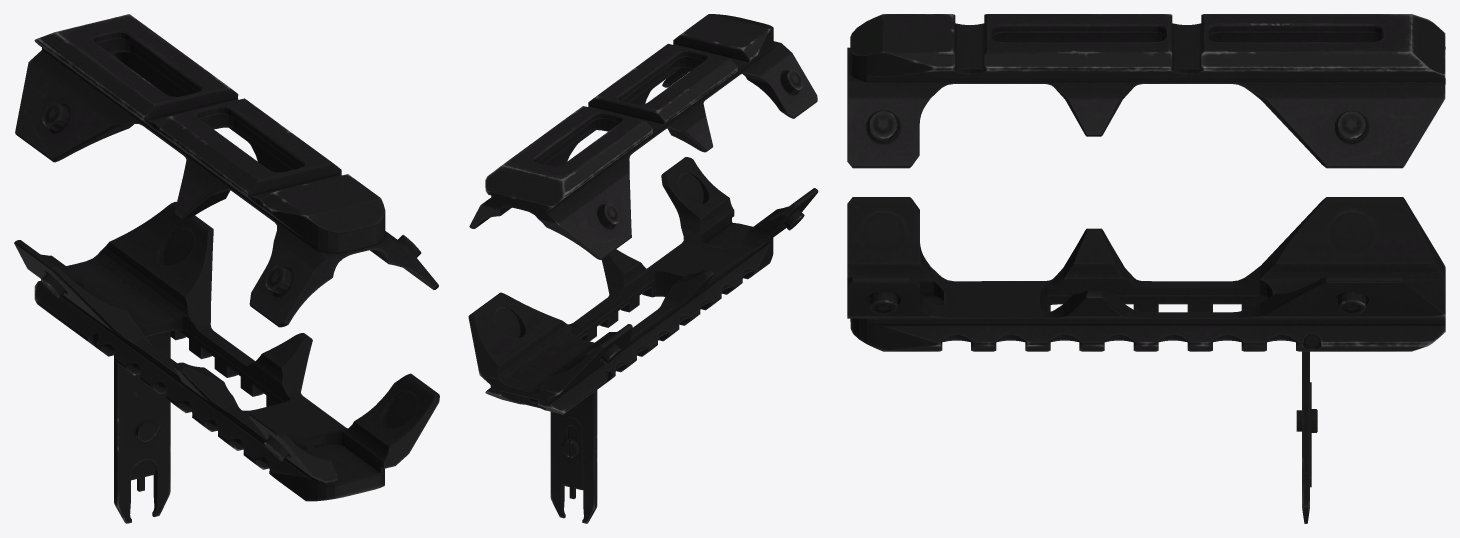
3 renders of one model, left to right at view 1: azimuth 30°, elevation 25°; view 2: azimuth 150°, elevation 25°; view 3: azimuth 270°, elevation 25°, orthographic. The views are drawn at different scales.
Visible parts, largest first — view 1: TW_68a6e8fd4ac5b037cb0e9b86_PZ_Import; view 2: TW_68a6e8fd4ac5b037cb0e9b86_PZ_Import; view 3: TW_68a6e8fd4ac5b037cb0e9b86_PZ_Import.
Part boxes in pixels (box(x1,y1,x2,y2)): TW_68a6e8fd4ac5b037cb0e9b86_PZ_Import: box(14, 14, 439, 523); TW_68a6e8fd4ac5b037cb0e9b86_PZ_Import: box(468, 14, 818, 523); TW_68a6e8fd4ac5b037cb0e9b86_PZ_Import: box(847, 14, 1445, 523).
Bounding box in the file's own units: 0.021 × 0.0639 × 0.0568.
1 material, 1 textured.
